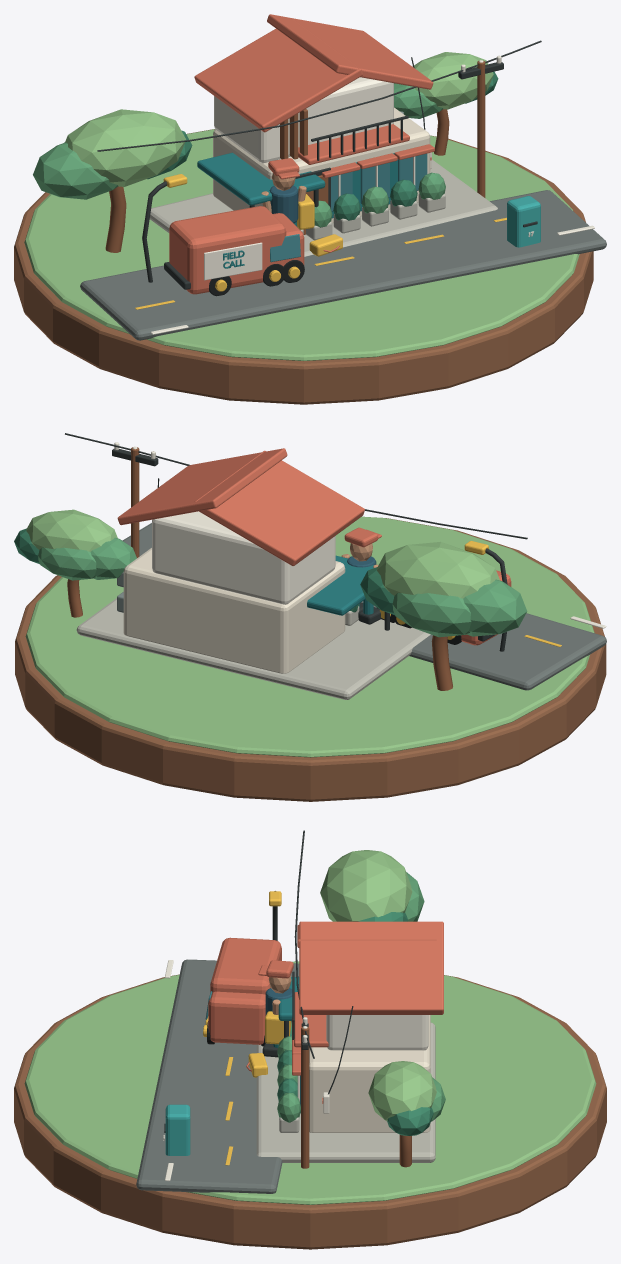
The model's file is hero-neighbourhood.glb.
3 views of the same model, one above another, from view 1: azimuth 30°, elevation 25°; view 2: azimuth 150°, elevation 25°; view 3: azimuth 270°, elevation 25° (orthographic). The views are drawn at different scales.
Visible parts, largest first — view 1: Diorama turf, Diorama earth, Neighbourhood road, Low roof left, Canopy cluster.001, Upper volume, Van body, House verge, High roof right, Ground plaster, Canopy cluster, Canopy cluster.005 (+19 smaller); view 2: Diorama turf, Diorama earth, Ground plaster, Upper volume, House verge, Low roof left, Neighbourhood road, High roof right, Canopy cluster.001, Canopy cluster.005, Canopy cluster.003, Canopy cluster (+8 smaller); view 3: Diorama turf, Diorama earth, Neighbourhood road, High roof right, House verge, Ground plaster, Canopy cluster.001, Upper volume, Van body, Canopy cluster.005, Van cab, Post box (+6 smaller).
Boxes of the visible parts, <box> form: Diorama turf: <box>24,129,579,360</box>; Diorama earth: <box>14,129,593,404</box>; Neighbourhood road: <box>80,190,606,340</box>; Low roof left: <box>194,19,362,132</box>; Canopy cluster.001: <box>65,109,186,186</box>; Upper volume: <box>214,77,393,163</box>; Van body: <box>169,206,286,294</box>; House verge: <box>149,159,497,256</box>; High roof right: <box>267,14,433,89</box>; Ground plaster: <box>213,107,430,223</box>; Canopy cluster: <box>33,142,118,199</box>; Canopy cluster.005: <box>412,52,493,109</box>; Diorama turf: <box>25,516,594,757</box>; Diorama earth: <box>15,518,606,801</box>; Ground plaster: <box>123,548,345,673</box>; Upper volume: <box>152,511,335,604</box>; House verge: <box>76,598,430,699</box>; Low roof left: <box>195,450,364,565</box>; Neighbourhood road: <box>122,523,606,690</box>; High roof right: <box>117,448,287,525</box>; Canopy cluster.001: <box>376,541,499,598</box>; Canopy cluster.005: <box>26,509,117,551</box>; Canopy cluster.003: <box>392,593,471,637</box>; Canopy cluster: <box>463,579,527,636</box>; Diorama turf: <box>24,961,596,1204</box>; Diorama earth: <box>14,974,606,1249</box>; Neighbourhood road: <box>136,959,299,1193</box>; High roof right: <box>299,921,443,1014</box>; House verge: <box>256,1022,435,1162</box>; Ground plaster: <box>309,1015,430,1132</box>; Canopy cluster.001: <box>320,850,412,921</box>; Upper volume: <box>326,1015,428,1050</box>; Van body: <box>210,937,281,994</box>; Canopy cluster.005: <box>368,1061,436,1120</box>; Van cab: <box>208,991,265,1044</box>; Post box: <box>165,1104,190,1155</box>.
Bounding box in the file's own units: 16.8 × 6.87 × 16.8.
